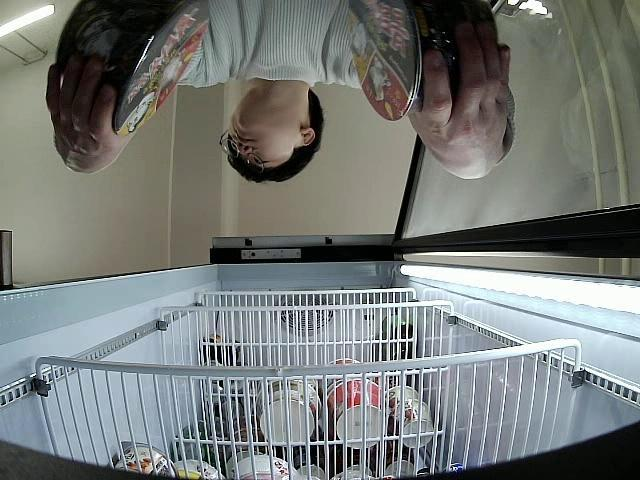07_buldak_L: (56, 0, 210, 139), (348, 0, 493, 121)
